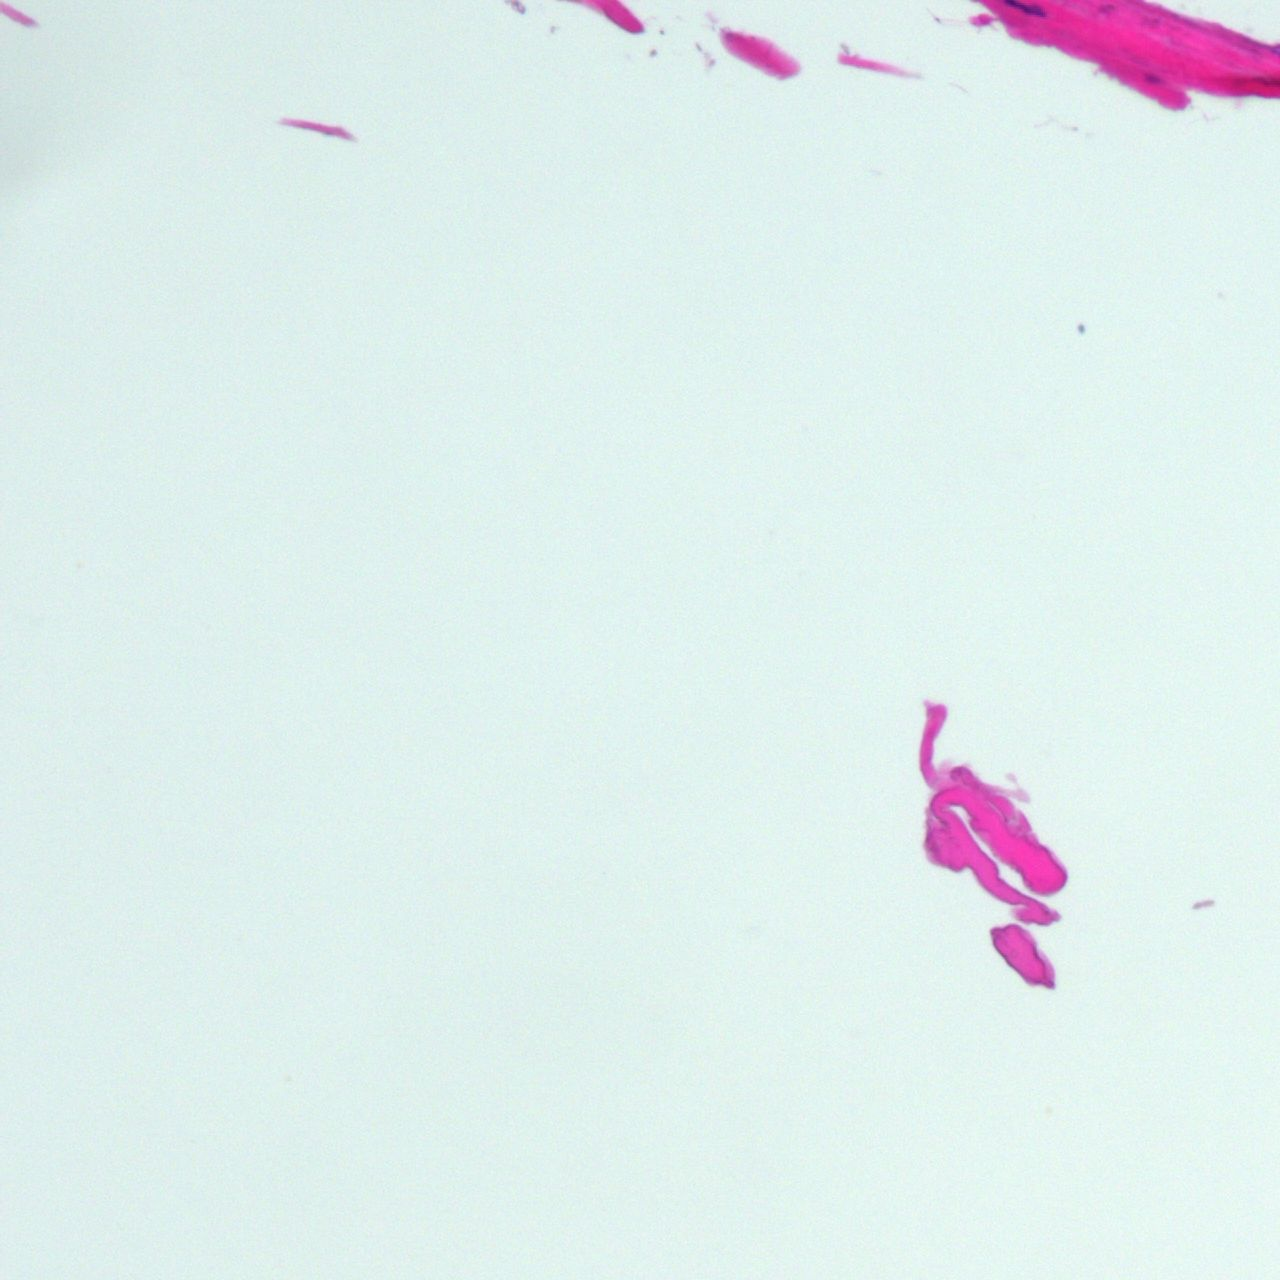nucleus-HE: (1142, 72, 1162, 86)
